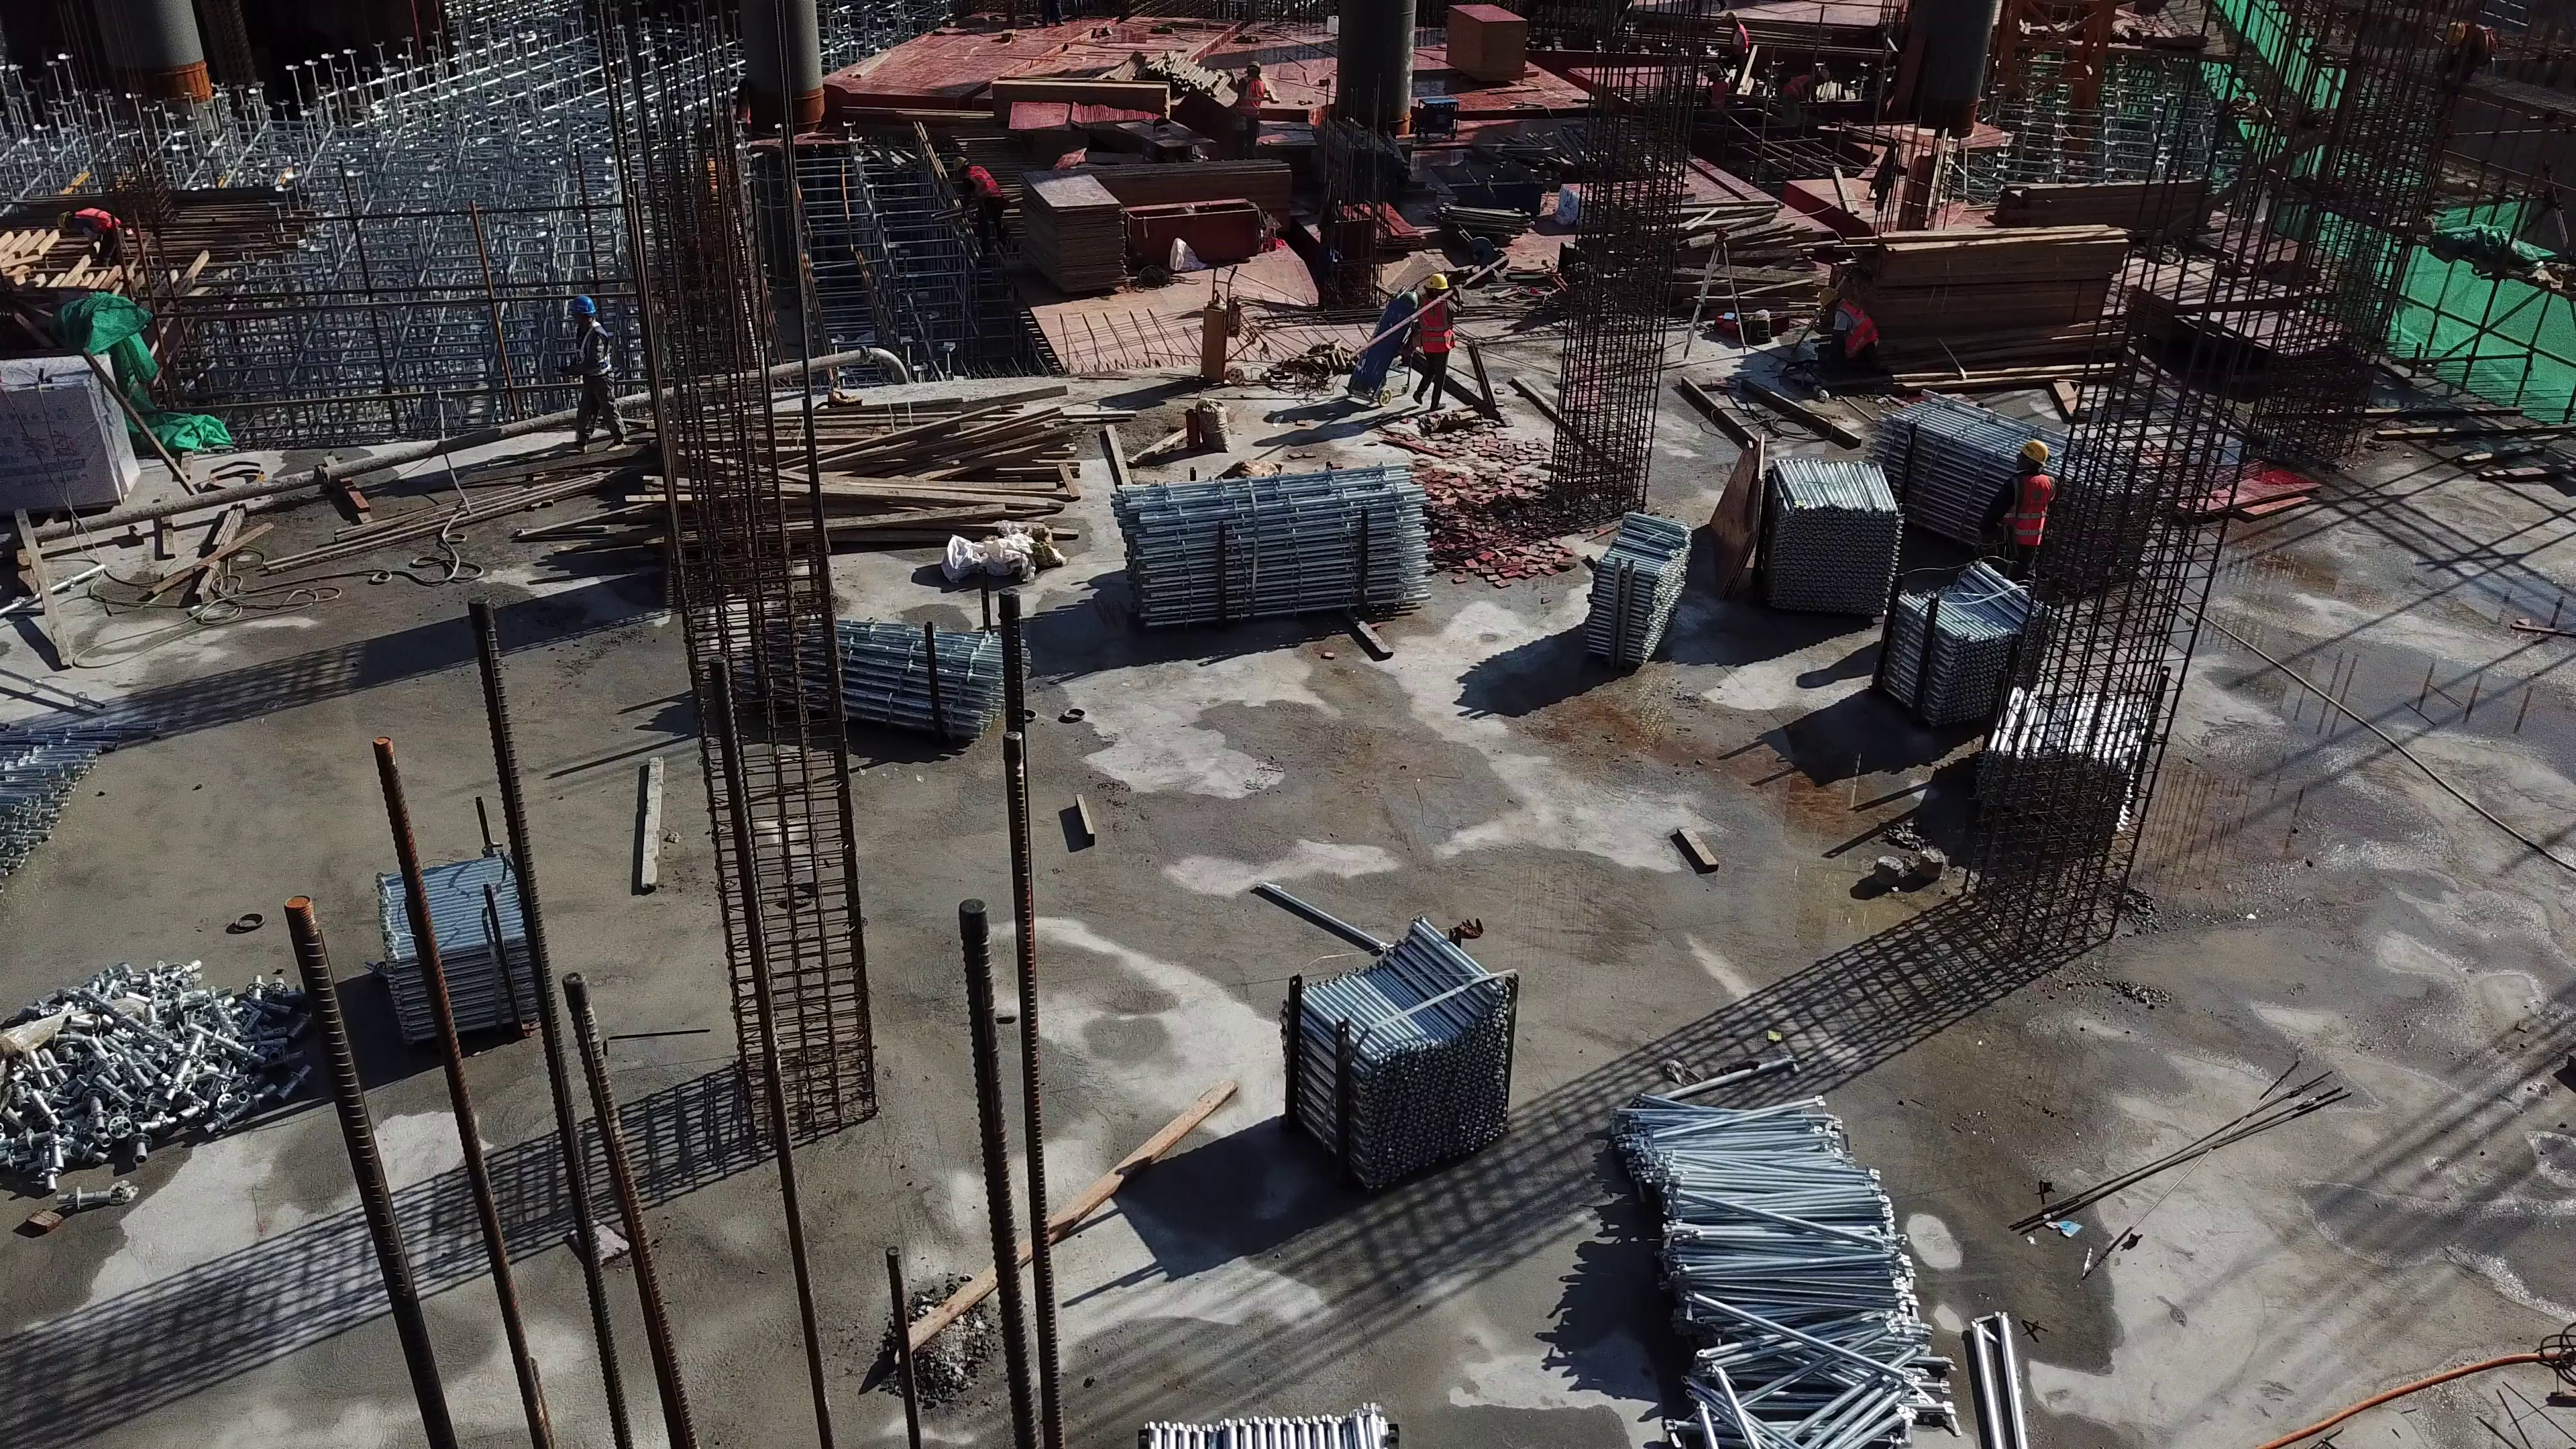helmet: (2446, 18, 2467, 50), (569, 295, 598, 317), (1423, 268, 1446, 291), (2024, 441, 2047, 462), (1819, 284, 1838, 307), (57, 209, 74, 231), (952, 152, 967, 167), (1246, 58, 1262, 71), (1723, 13, 1736, 21), (1821, 70, 1829, 82)
person: (561, 294, 631, 454), (1982, 440, 2049, 585), (1414, 270, 1462, 411), (953, 155, 1004, 254), (1817, 286, 1878, 363), (58, 207, 125, 266), (1780, 69, 1834, 132), (2447, 19, 2500, 81), (1236, 60, 1269, 155), (1725, 9, 1749, 93), (1699, 64, 1729, 109)
vest: (2002, 474, 2046, 548), (574, 321, 612, 377), (1421, 297, 1452, 356), (1836, 299, 1872, 350), (966, 166, 999, 197), (76, 208, 115, 233), (1241, 76, 1263, 114), (1782, 75, 1812, 99), (1711, 80, 1722, 102)
